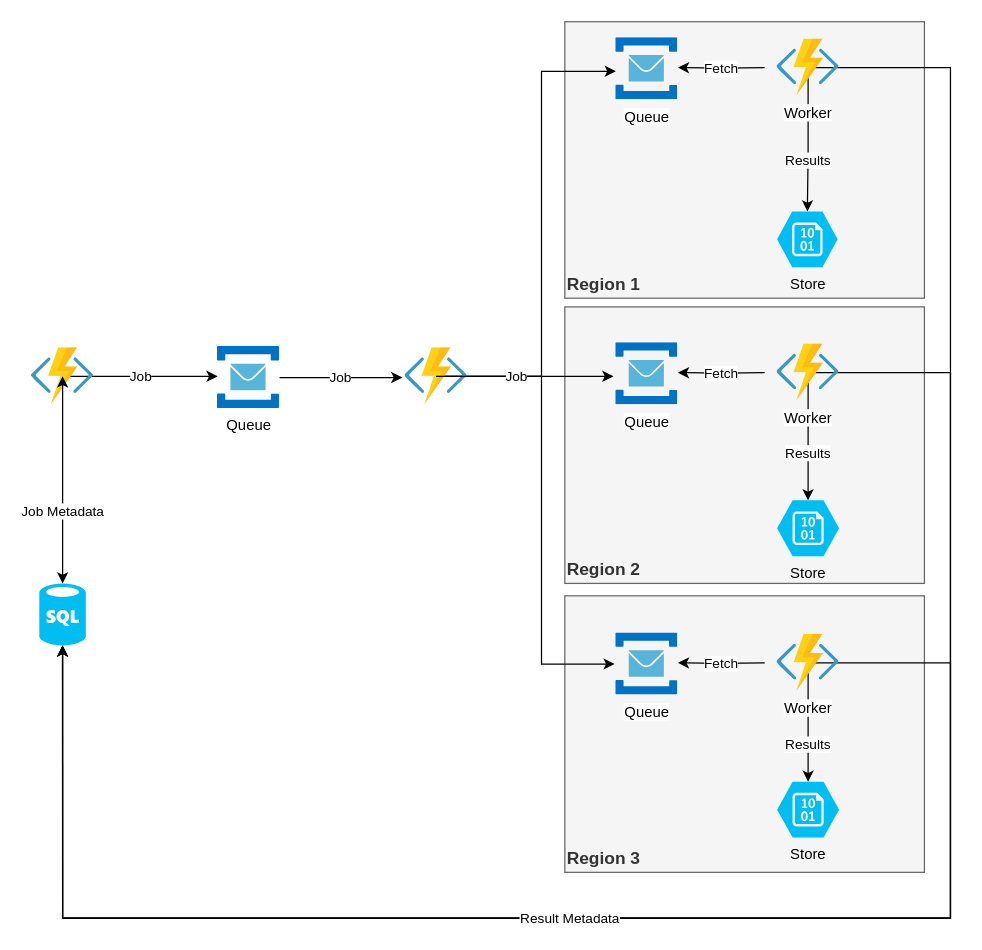
Image size: 982x950. Some labels were removed from this diagram. The centre of each missing label's shape, as x and y in pixels:
"Job Store" goes at point (62, 614).
"Producer" goes at point (62, 375).
"Router" goes at point (435, 375).
